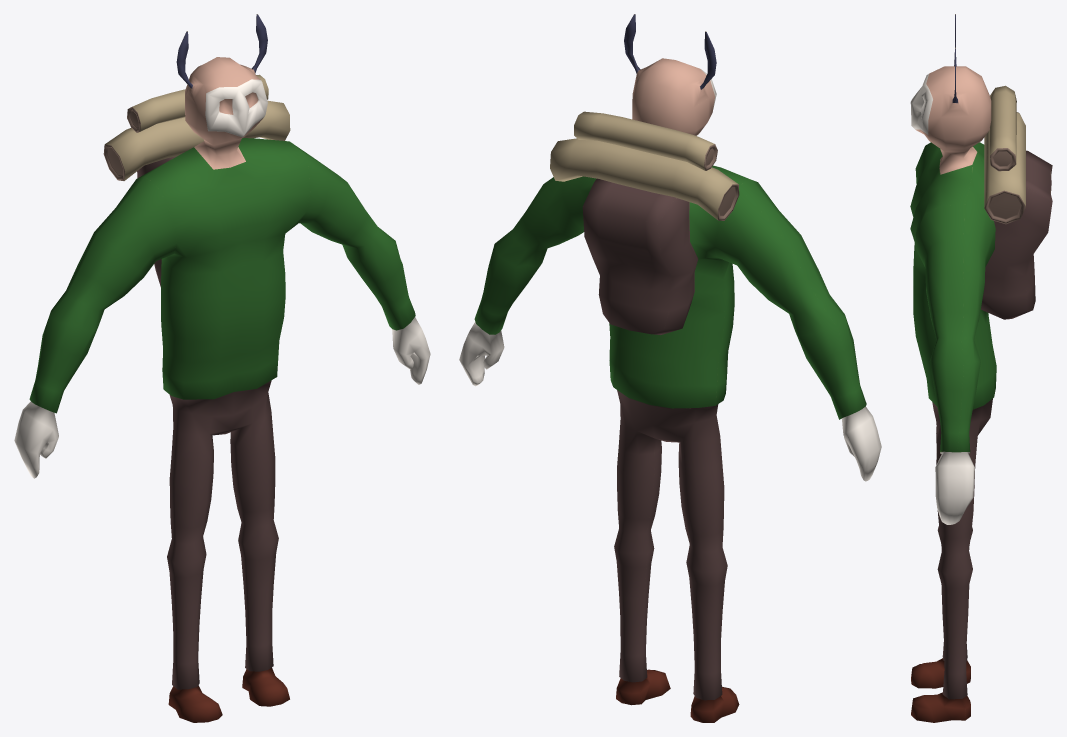
File: Owl_Mask.gltf
3 renders of one model, left to right at view 1: azimuth 30°, elevation 25°; view 2: azimuth 150°, elevation 25°; view 3: azimuth 270°, elevation 25°, orthographic. The views are drawn at different scales.
Parts seen in each view (by area): view 1: Character, Rolls; view 2: Character, Rolls; view 3: Character, Rolls.
Part boxes in pixels (x1,y1,x2,y2): Character: (14, 14, 430, 722); Rolls: (103, 74, 290, 180); Character: (459, 14, 881, 722); Rolls: (550, 111, 739, 220); Character: (910, 14, 1052, 722); Rolls: (984, 85, 1025, 224).
Bounding box in the file's own units: 1.61 × 2.57 × 0.4967.
Materials: 1 (1 with a texture image).
